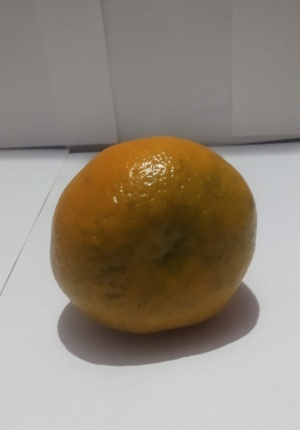BAD: (46, 135, 257, 336)
